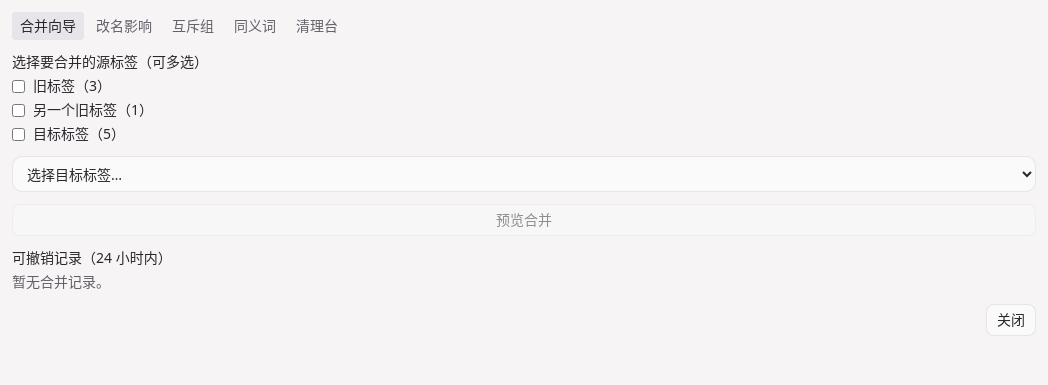
Test case: New211TagOpsPanel › 预览失败（422 稳定信封）→ 诚实错误而非假成功
The image size is (1048, 385).
Click the checkbox labelled "旧标签（3）". click: [18, 86]
box: [12,80,25,92]
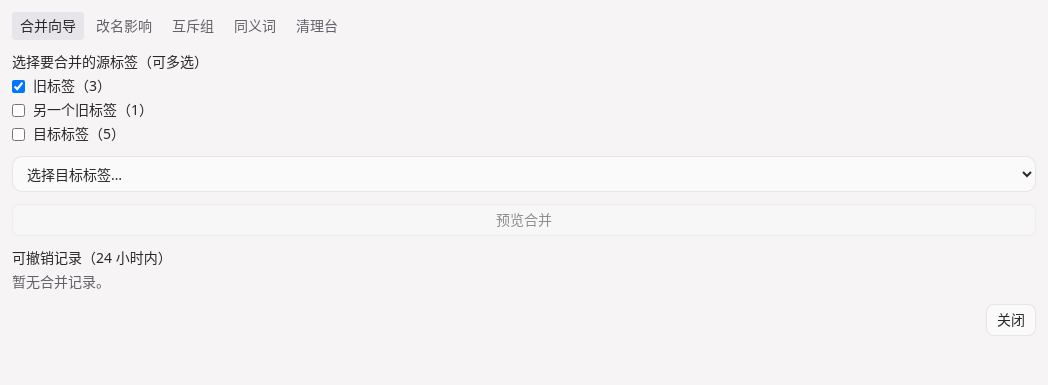
Select "目标标签" in the dropdown named "目标标签". click: [524, 174]
box: [12,156,1036,192]
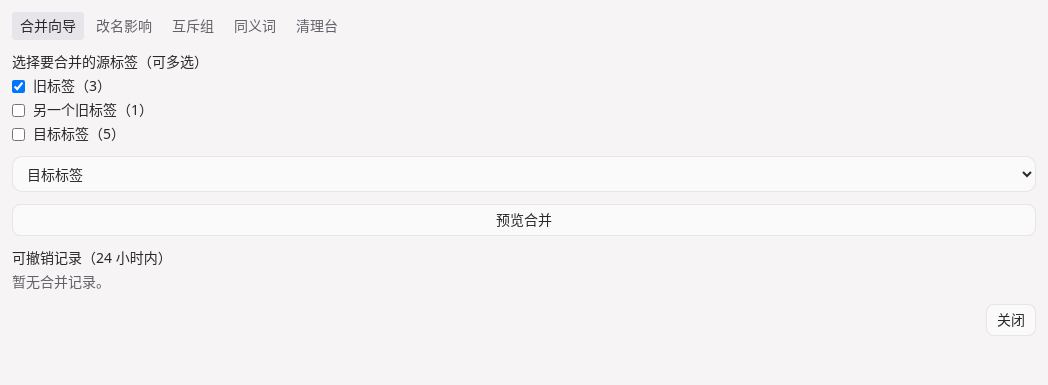
Click the button "预览合并". click: [524, 220]
box: [12,204,1036,236]
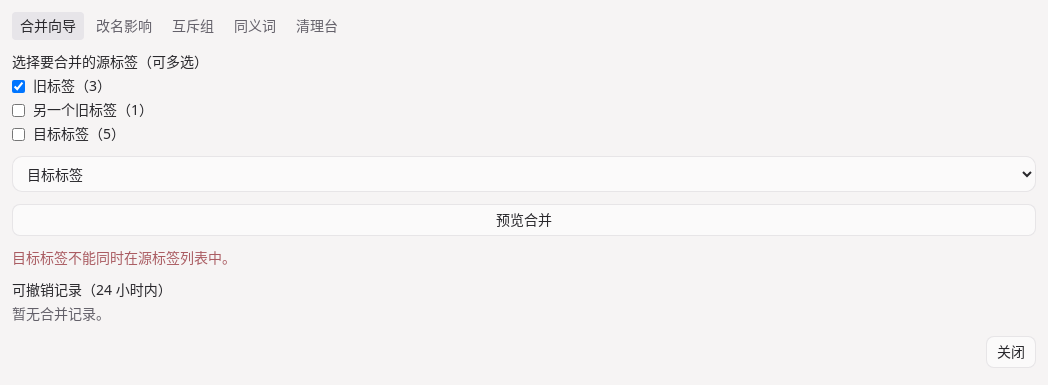
Expected: the message reads "目标标签不能同时在源标签列表中。", [12,248,236,267]
